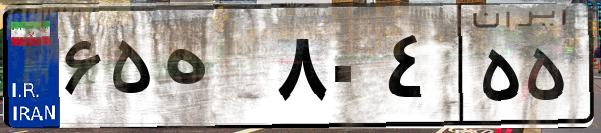0: (330, 28, 385, 110)
4: (385, 28, 445, 110)
5: (475, 38, 525, 113), (525, 38, 570, 115), (110, 28, 158, 98)
6: (57, 26, 110, 100)
8: (270, 28, 330, 110)
ه: (158, 20, 270, 120)
